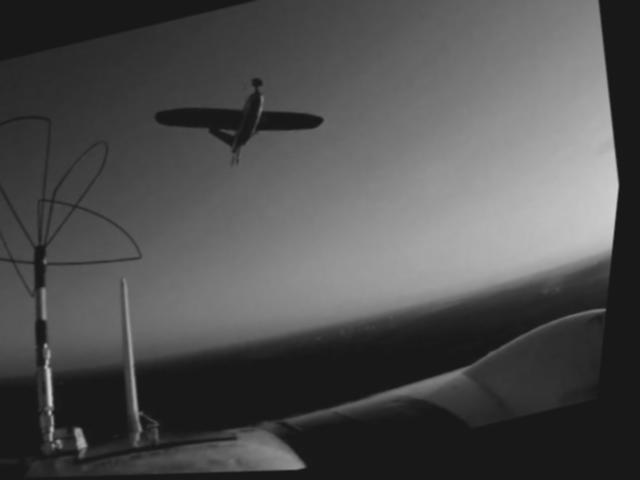hedef: (142, 53, 345, 203)
